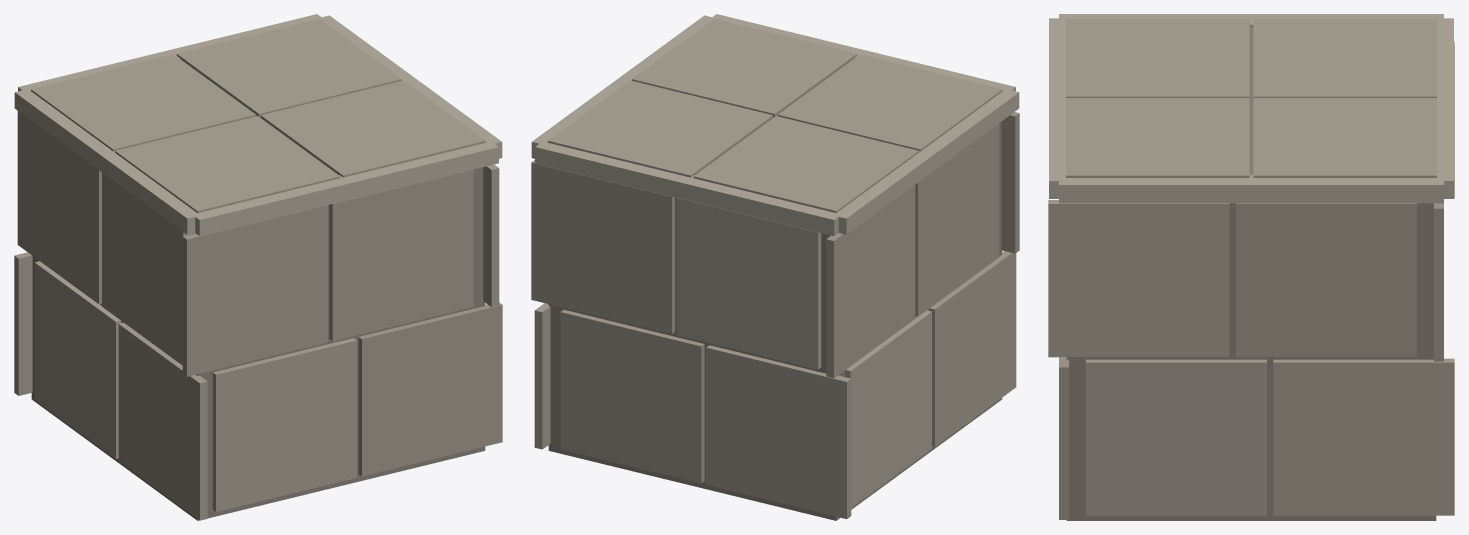
The model's file is dk_ledge.gltf.
The picture shows the model from 3 angles, left to right: view 1: azimuth 30°, elevation 25°; view 2: azimuth 150°, elevation 25°; view 3: azimuth 270°, elevation 25°; orthographic projection. The views are drawn at different scales.
Parts seen in each view (by area): view 1: Body; view 2: Body; view 3: Body.
Part boxes in pixels (x1,y1,x2,y2): Body: (14, 14, 502, 520); Body: (531, 14, 1019, 520); Body: (1048, 14, 1454, 520).
Bounding box in the file's own units: 3.25 × 3.05 × 3.25.
